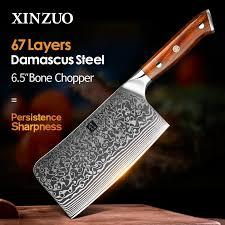knives: (25, 6, 216, 215)
